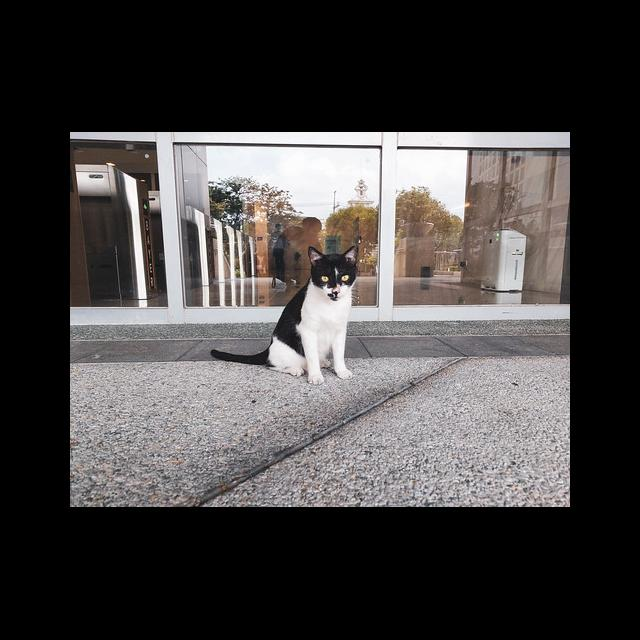animals: (212, 247, 359, 385)
